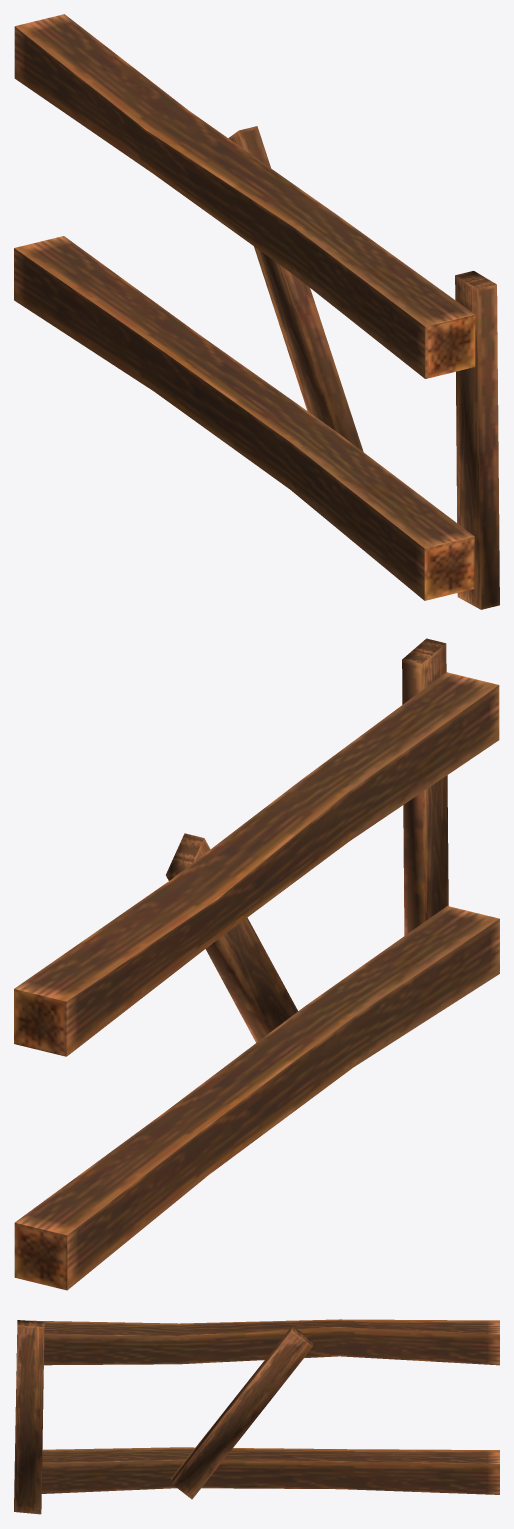
The model's file is INST_SWORDLIGHT_SCFLDNGM.fbx.
The picture shows the model from 3 angles, top to bottom: view 1: azimuth 30°, elevation 25°; view 2: azimuth 150°, elevation 25°; view 3: azimuth 270°, elevation 25°; orthographic projection. The views are drawn at different scales.
Parts seen in each view (by area): view 1: INST_SWORDLIGHT_SCFLDNGM; view 2: INST_SWORDLIGHT_SCFLDNGM; view 3: INST_SWORDLIGHT_SCFLDNGM.
Part boxes in pixels (x1,y1,x2,y2): INST_SWORDLIGHT_SCFLDNGM: (14, 14, 499, 609); INST_SWORDLIGHT_SCFLDNGM: (14, 638, 499, 1290); INST_SWORDLIGHT_SCFLDNGM: (14, 1319, 499, 1514).
Bounding box in the file's own units: 2145 × 8607 × 20042.
2 materials, 2 textured.
